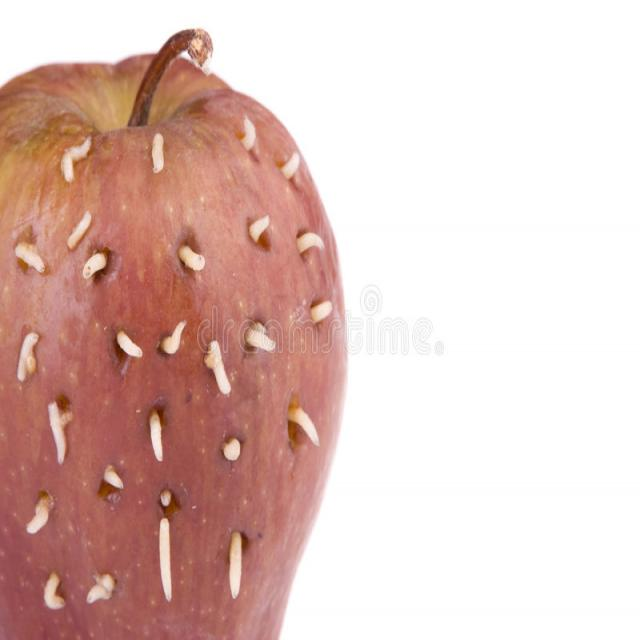Fresh Apple: (0, 48, 336, 640)
